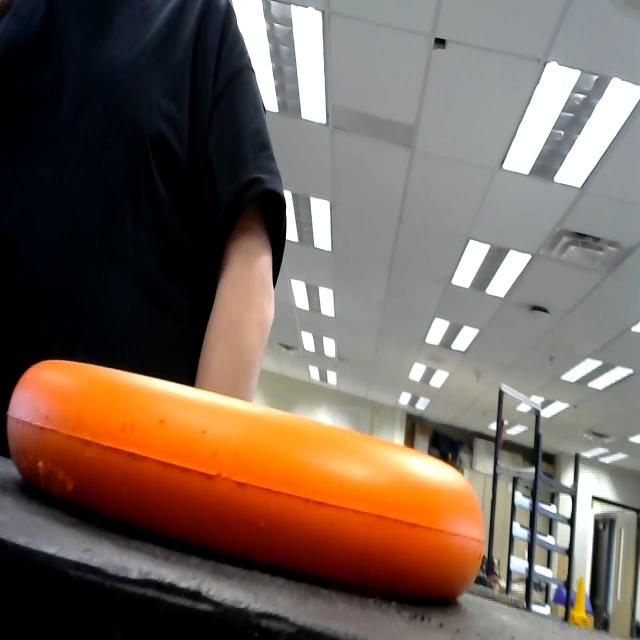note: (9, 331, 500, 623)
